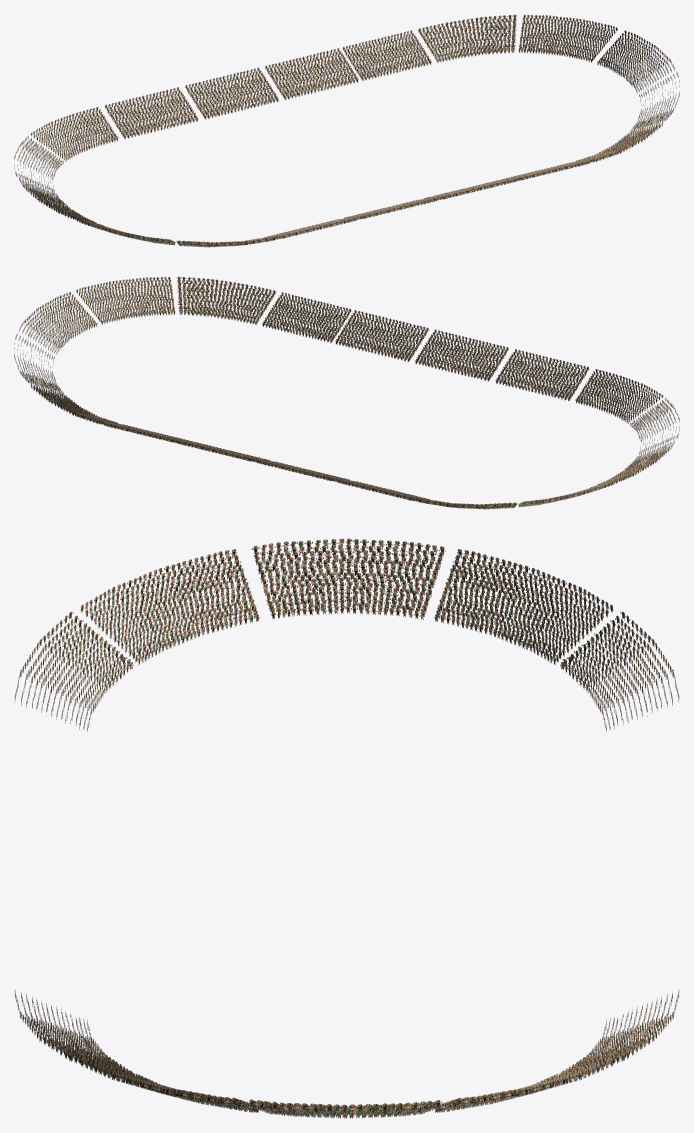
File: Track1_Peoples.fbx
The picture shows the model from 3 angles, top to bottom: view 1: azimuth 30°, elevation 25°; view 2: azimuth 150°, elevation 25°; view 3: azimuth 270°, elevation 25°; orthographic projection. The views are drawn at different scales.
Visible parts, largest first — view 1: no part large enough to name; view 2: no part large enough to name; view 3: polySurface391, polySurface599, polySurface375, polySurface423, polySurface598.
Boxes of the visible parts, x1=… form: polySurface391: x1=248, y1=1099, x2=442, y2=1112; polySurface599: x1=251, y1=538, x2=445, y2=553; polySurface375: x1=456, y1=1059, x2=613, y2=1105; polySurface423: x1=80, y1=1059, x2=237, y2=1105; polySurface598: x1=253, y1=544, x2=443, y2=559.
Bounding box in the file's own units: 21781 × 1072 × 10828.
